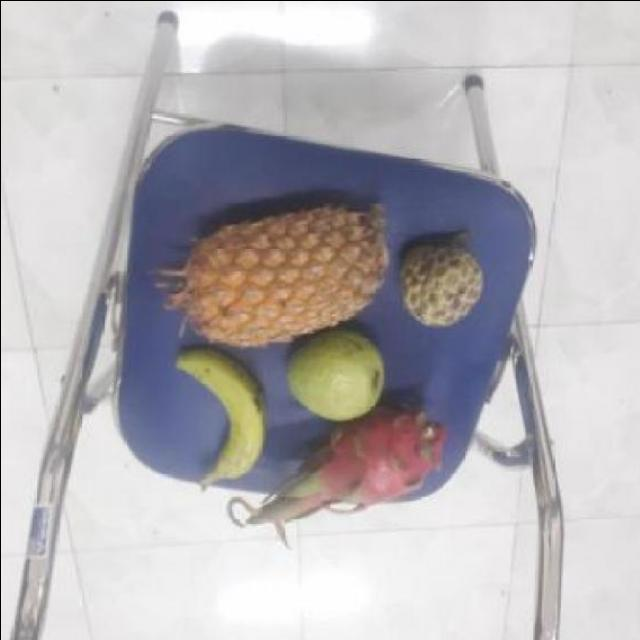banana: (174, 347, 268, 482)
dragon fruit: (287, 400, 438, 507)
guava: (279, 324, 386, 418)
pineapple: (163, 198, 389, 346)
sugar apple: (392, 238, 480, 324)
